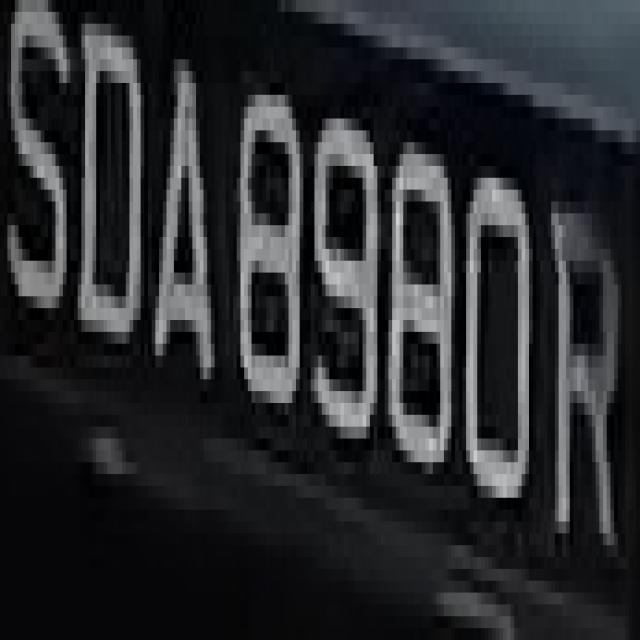0: (459, 154, 540, 533)
8: (226, 48, 310, 450), (381, 130, 459, 522)
9: (303, 83, 385, 486)
A: (148, 36, 222, 427)
D: (74, 24, 144, 391)
R: (544, 154, 625, 557)
S: (3, 12, 78, 355)
